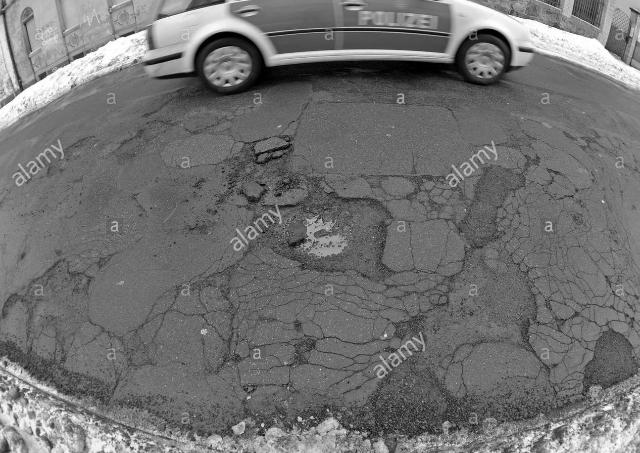Pothole: (218, 128, 418, 282)
